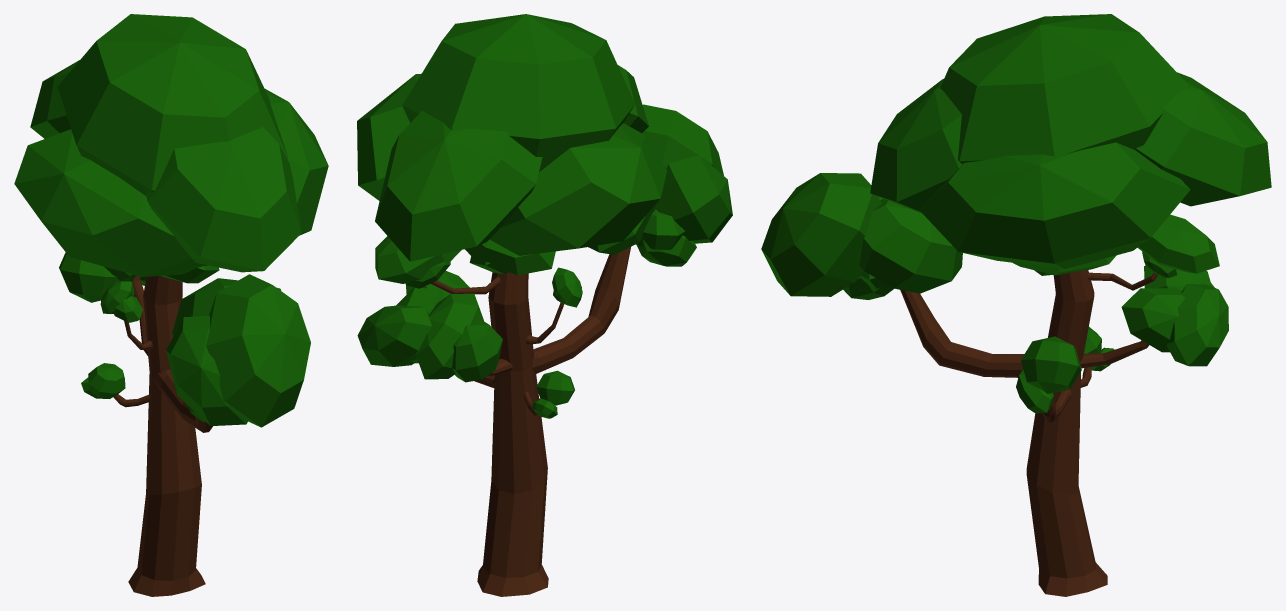
Rendered from Tree-Vegetated.FBX.
3 renders of one model, left to right at view 1: azimuth 30°, elevation 25°; view 2: azimuth 150°, elevation 25°; view 3: azimuth 270°, elevation 25°, orthographic.
Visible parts, largest first — view 1: Leafs, Tree; view 2: Leafs, Tree; view 3: Leafs, Tree.
Part boxes in pixels (box(x1,y1,x2,y2)): Leafs: box(14, 14, 328, 427); Tree: box(113, 275, 212, 596); Leafs: box(357, 14, 732, 418); Tree: box(430, 247, 630, 596); Leafs: box(761, 14, 1271, 413); Tree: box(900, 270, 1157, 596).
Size of the model in its own units: 242 by 466 by 388.
